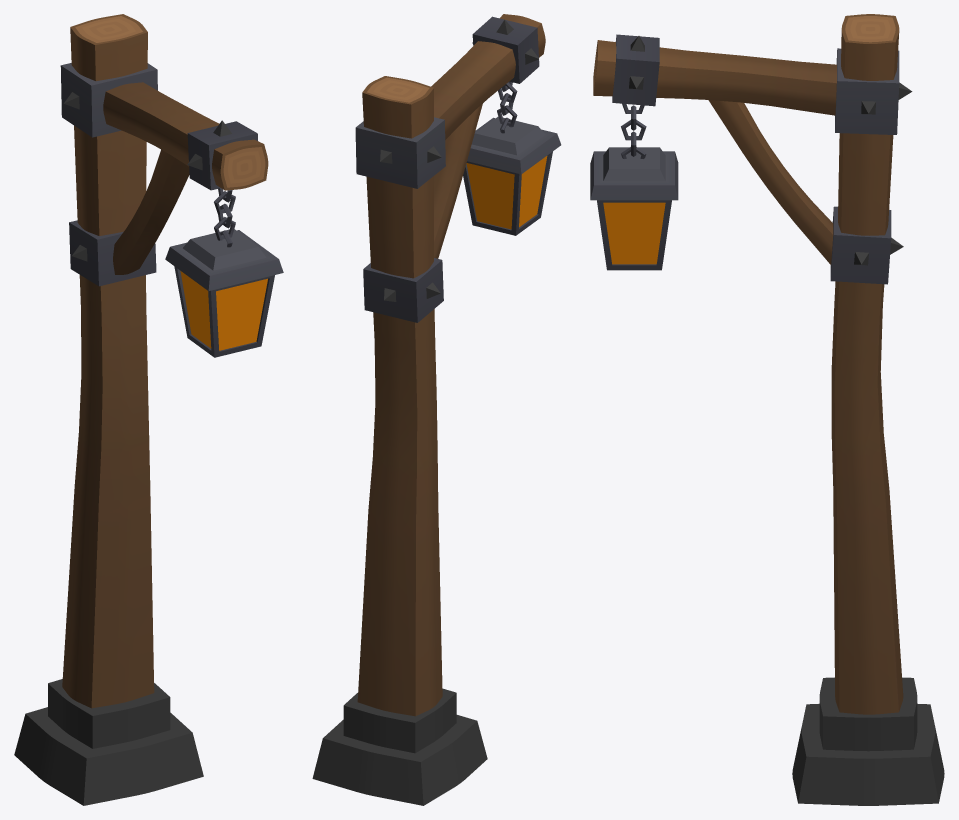
File: Lantern_01.glb
The picture shows the model from 3 angles, left to right: view 1: azimuth 30°, elevation 25°; view 2: azimuth 150°, elevation 25°; view 3: azimuth 270°, elevation 25°; orthographic projection. The views are drawn at different scales.
Parts seen in each view (by area): view 1: Lantern_01_LOD0; view 2: Lantern_01_LOD0; view 3: Lantern_01_LOD0.
Part boxes in pixels (x1,y1,x2,y2): Lantern_01_LOD0: (14,14,283,805); Lantern_01_LOD0: (312,14,561,805); Lantern_01_LOD0: (590,14,944,805).
Size of what is drawn, in the model's own units: 0.4685 by 2.53 by 1.09.
2 materials, 2 textured.
